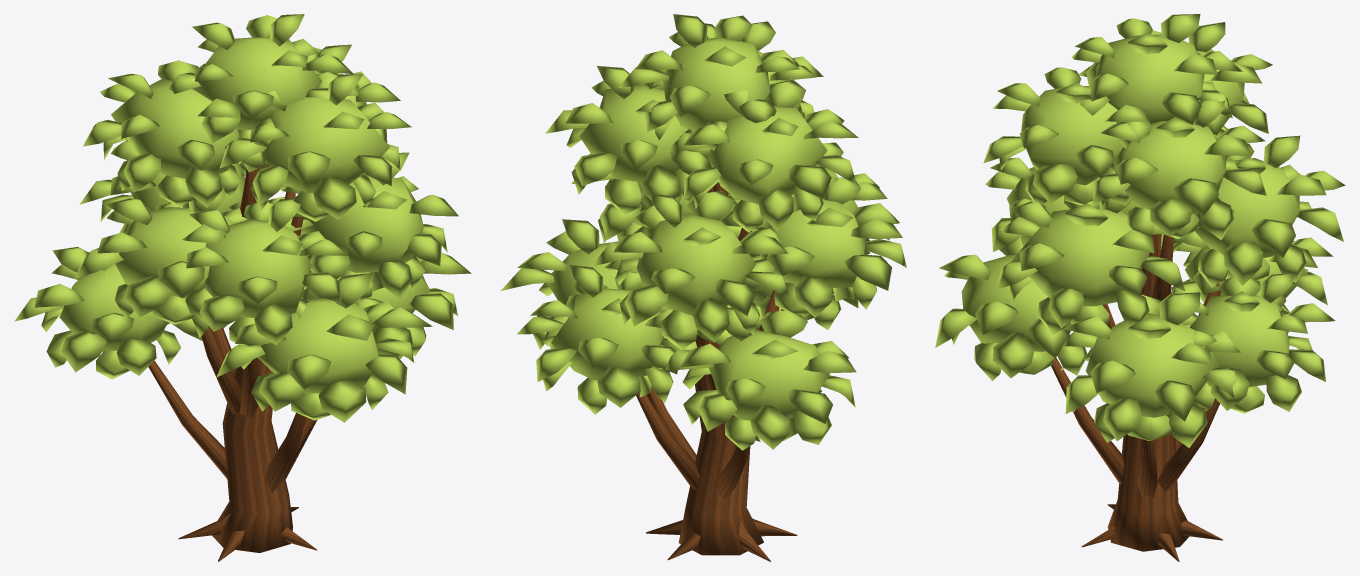
File: VerdantOak_LOD1.glb
3 renders of one model, left to right at view 1: azimuth 30°, elevation 25°; view 2: azimuth 150°, elevation 25°; view 3: azimuth 270°, elevation 25°, orthographic.
Parts seen in each view (by area): view 1: SM_VerdantOak_Foliage_LOD1, SM_VerdantOak_Bark_LOD1; view 2: SM_VerdantOak_Foliage_LOD1, SM_VerdantOak_Bark_LOD1; view 3: SM_VerdantOak_Foliage_LOD1, SM_VerdantOak_Bark_LOD1.
Boxes of the visible parts, x1,y1,x2,y2 form: SM_VerdantOak_Foliage_LOD1: [14, 14, 471, 422]; SM_VerdantOak_Bark_LOD1: [148, 164, 317, 561]; SM_VerdantOak_Foliage_LOD1: [500, 14, 906, 450]; SM_VerdantOak_Bark_LOD1: [636, 165, 797, 561]; SM_VerdantOak_Foliage_LOD1: [935, 14, 1345, 447]; SM_VerdantOak_Bark_LOD1: [1051, 234, 1227, 561].
Bounding box in the file's own units: 6.05 × 7.76 × 5.62.
Materials: 2 (1 with a texture image).
